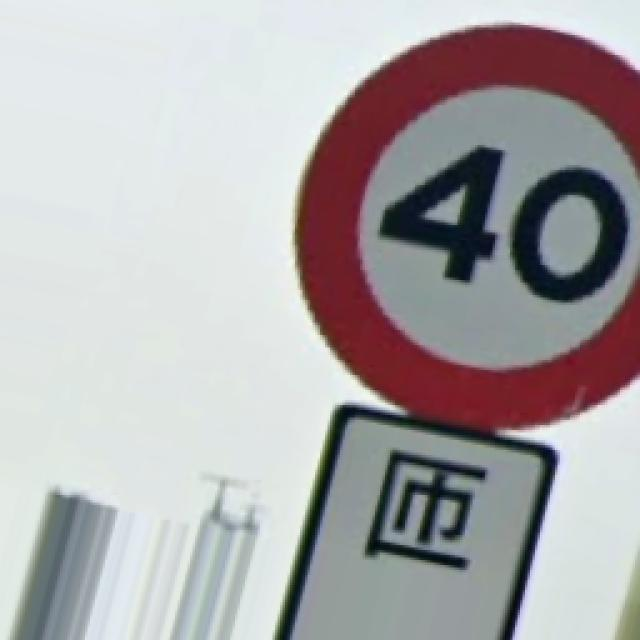Speed Limit -40-: (298, 28, 638, 428)
